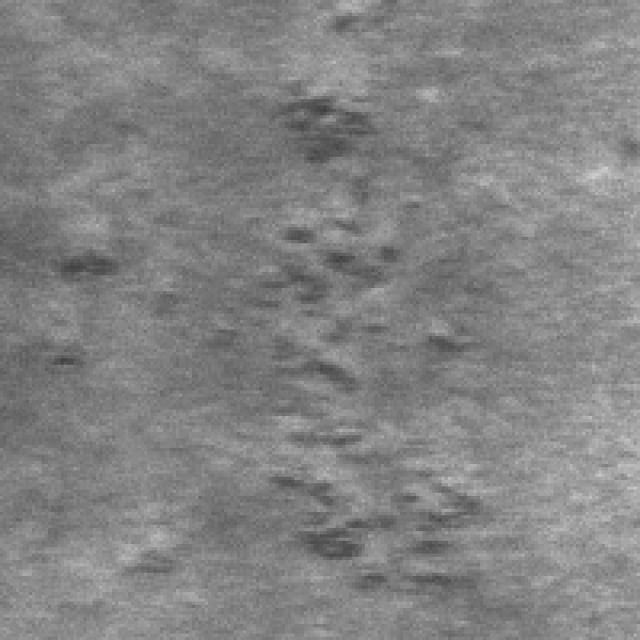rolled-in_scale: (41, 205, 486, 390), (115, 397, 477, 595), (266, 74, 378, 195)
